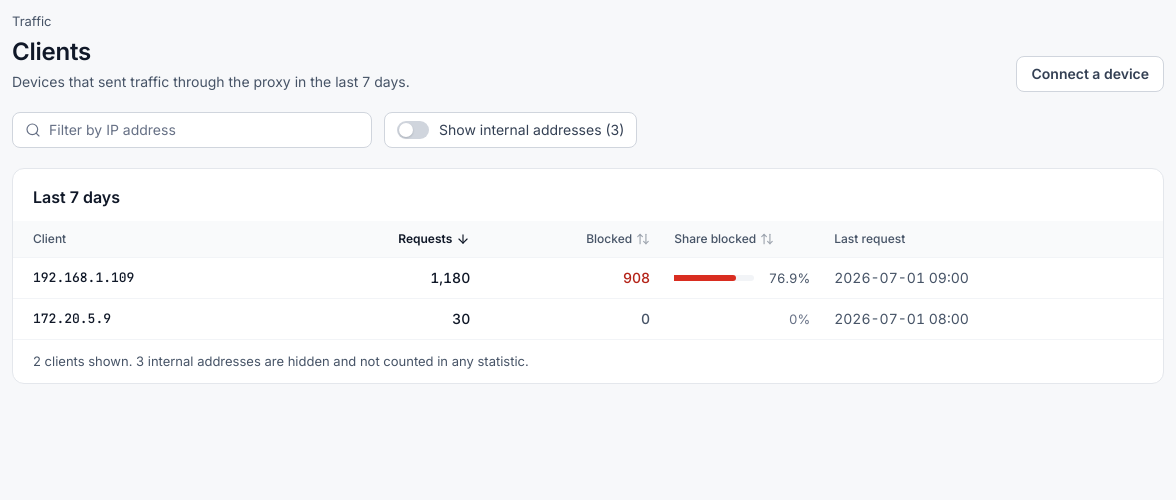
Test: Clients › filters by IP address
Type "172.20" into the search field named "Filter clients by IP address".
click(204, 130); type("172.20")  # box [49, 112, 359, 146]
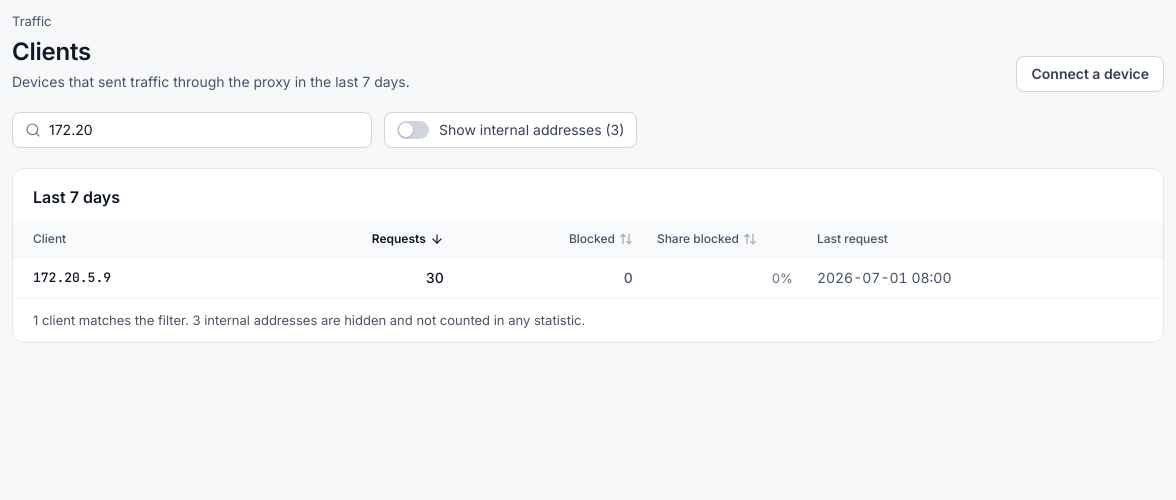
Check: the text "1 client matches the filter." is shown, box [33, 312, 585, 328]
Replace the text in the search field named "Filter clients by IP address" with "10.9" at (204, 130), box [49, 112, 359, 146]
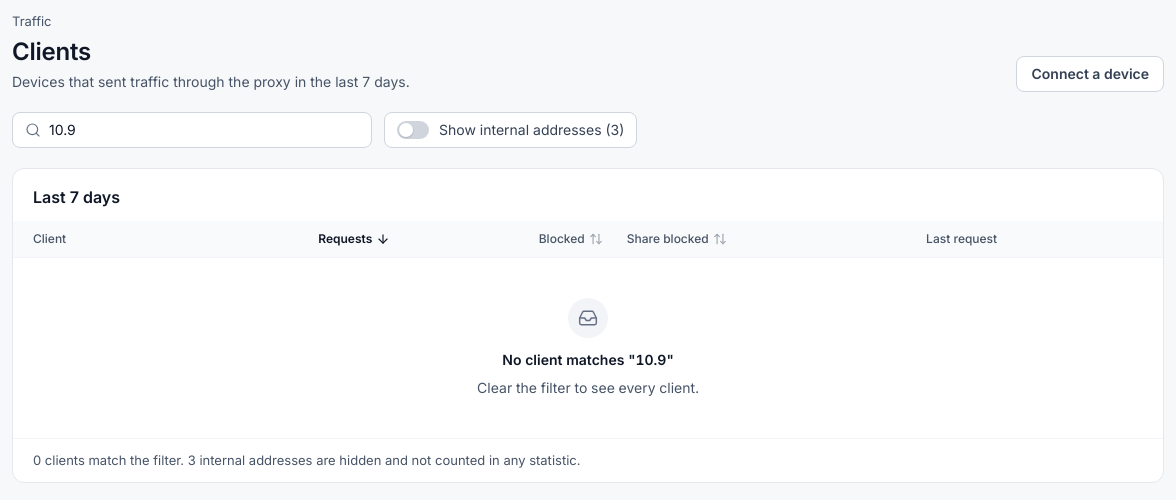
Check: the text "No client matches \"10.9\"" is shown, box [502, 350, 674, 370]
